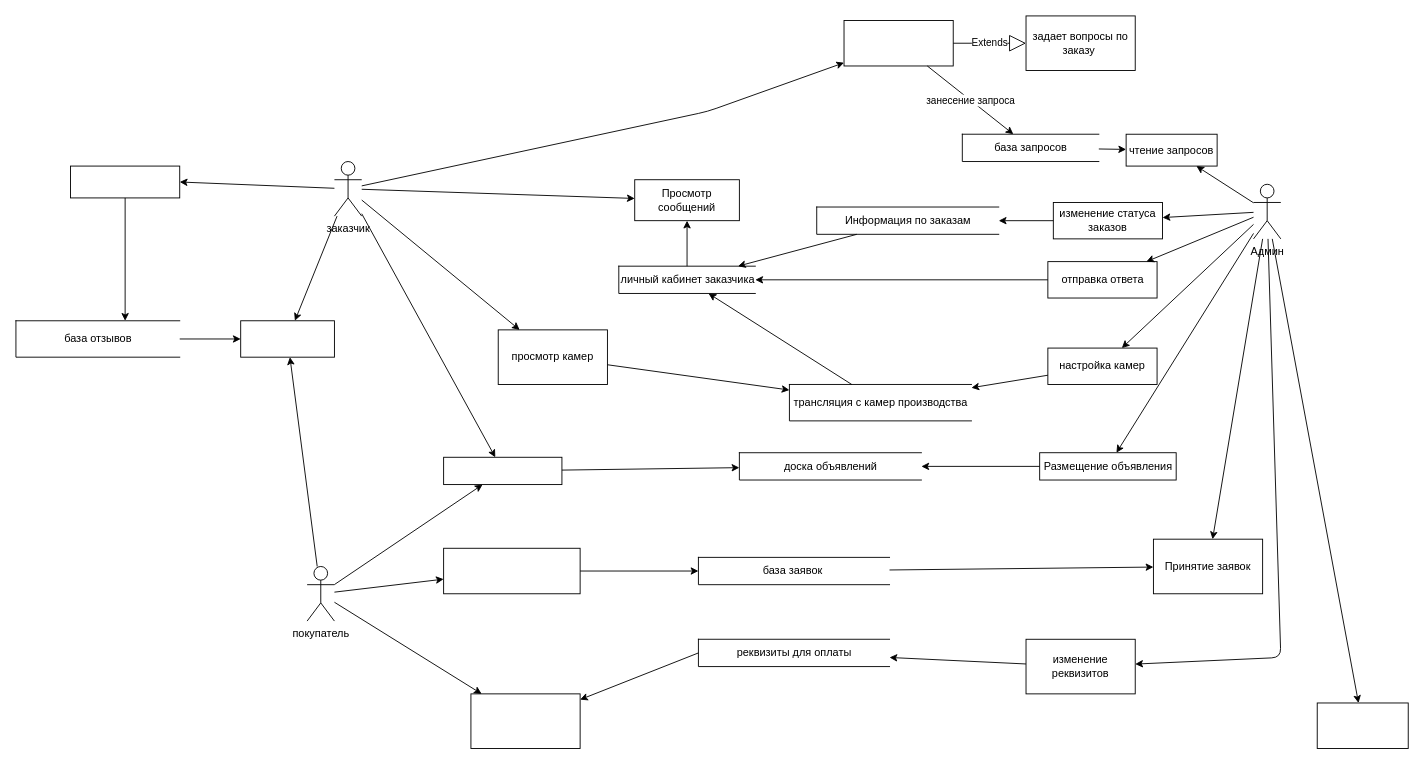
Image size: 1425x764. Some labels were removed from this diagram. Here are the shapes that lost their labels. From the top down, the box of each, then its label:
(843, 20, 953, 66): оставляет запросы на изменение конструкции
(70, 165, 180, 198): публикация отзывов
(240, 320, 334, 357): Просмотр отзывов
(443, 456, 562, 485): просмотр объявлений
(443, 547, 580, 594): оставляет заявку на изготовление автомобиля
(470, 693, 580, 748): оплачивает заказ
(1316, 702, 1408, 748): Проверяет статус оплаты звказа
